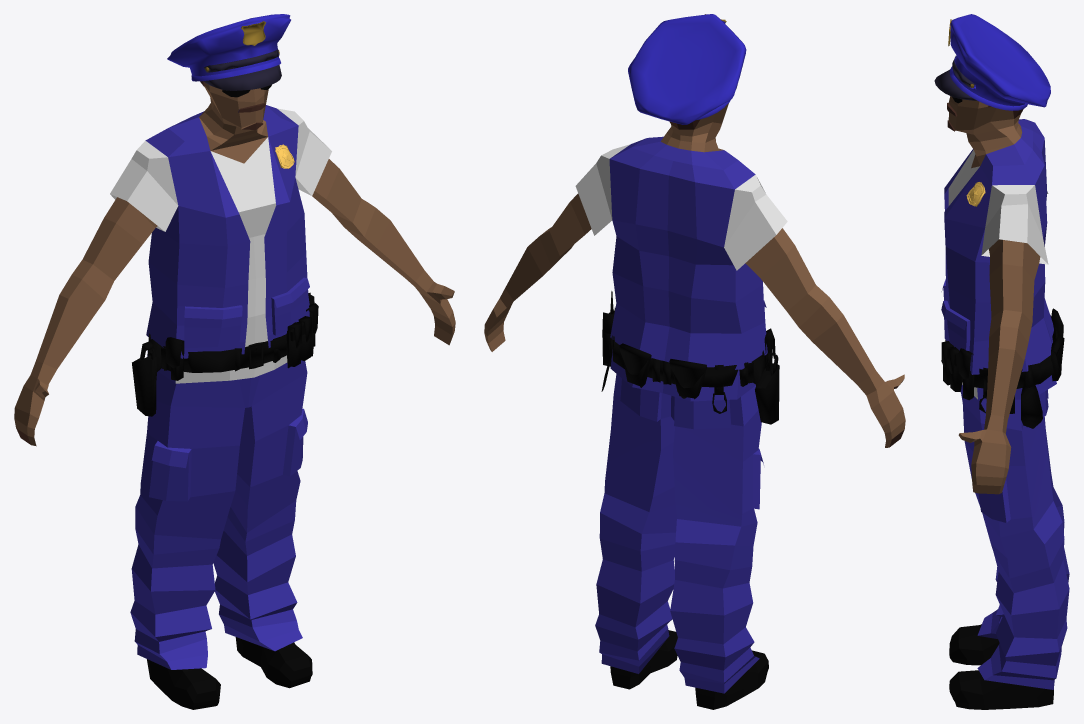
Rendered from Police2.fbx.
3 views of the same model, side by side, from view 1: azimuth 30°, elevation 25°; view 2: azimuth 150°, elevation 25°; view 3: azimuth 270°, elevation 25° (orthographic). The views are drawn at different scales.
Parts seen in each view (by area): view 1: male_02_a, Police_Hat, 1_sbbelt; view 2: male_02_a, Police_Hat, 1_sbbelt; view 3: male_02_a, Police_Hat, 1_sbbelt.
Boxes of the visible parts, box(x1,y1,x2,y2) form: male_02_a: box(14, 81, 455, 709); Police_Hat: box(167, 14, 290, 90); 1_sbbelt: box(132, 292, 318, 416); male_02_a: box(484, 103, 905, 709); Police_Hat: box(628, 14, 746, 124); 1_sbbelt: box(601, 291, 779, 424); male_02_a: box(941, 96, 1069, 709); Police_Hat: box(934, 14, 1050, 110); 1_sbbelt: box(941, 308, 1064, 428).
Size of the model in its own units: 127 by 192 by 35.8.
